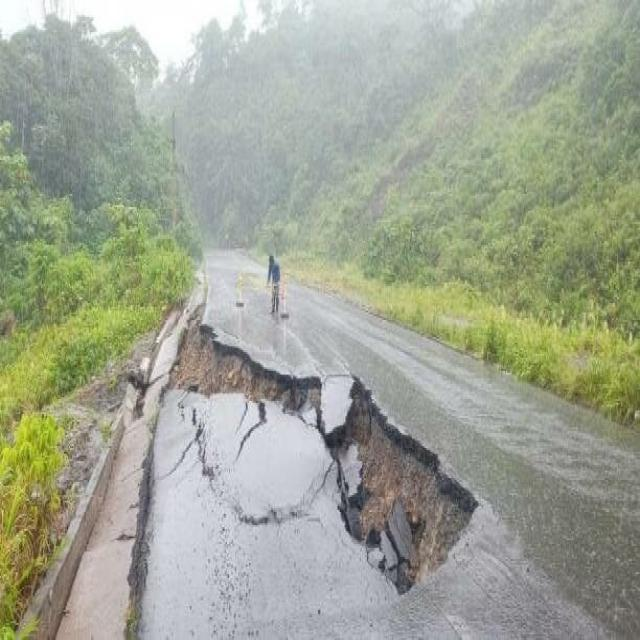Buraco: (155, 298, 484, 600)
